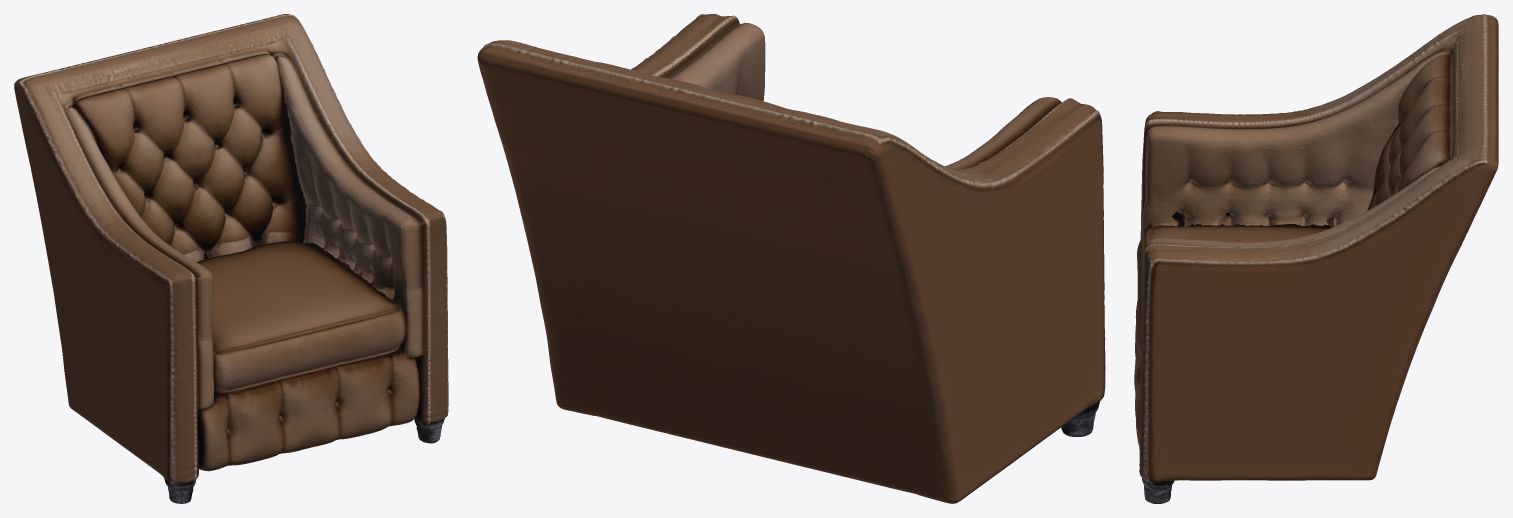
File: 9e19be4e-0423-4861-a379-54ac3e7b5849_result.glb
The picture shows the model from 3 angles, left to right: view 1: azimuth 30°, elevation 25°; view 2: azimuth 150°, elevation 25°; view 3: azimuth 270°, elevation 25°; orthographic projection. The views are drawn at different scales.
Parts seen in each view (by area): view 1: tmpwftu_7wn.ply; view 2: tmpwftu_7wn.ply; view 3: tmpwftu_7wn.ply.
Part boxes in pixels (x1=…): tmpwftu_7wn.ply: x1=14, y1=14, x2=448, y2=503; tmpwftu_7wn.ply: x1=477, y1=14, x2=1105, y2=503; tmpwftu_7wn.ply: x1=1134, y1=14, x2=1498, y2=503.
Size of the model in its own units: 1.83 by 1.97 by 1.87.
1 material, 1 textured.
